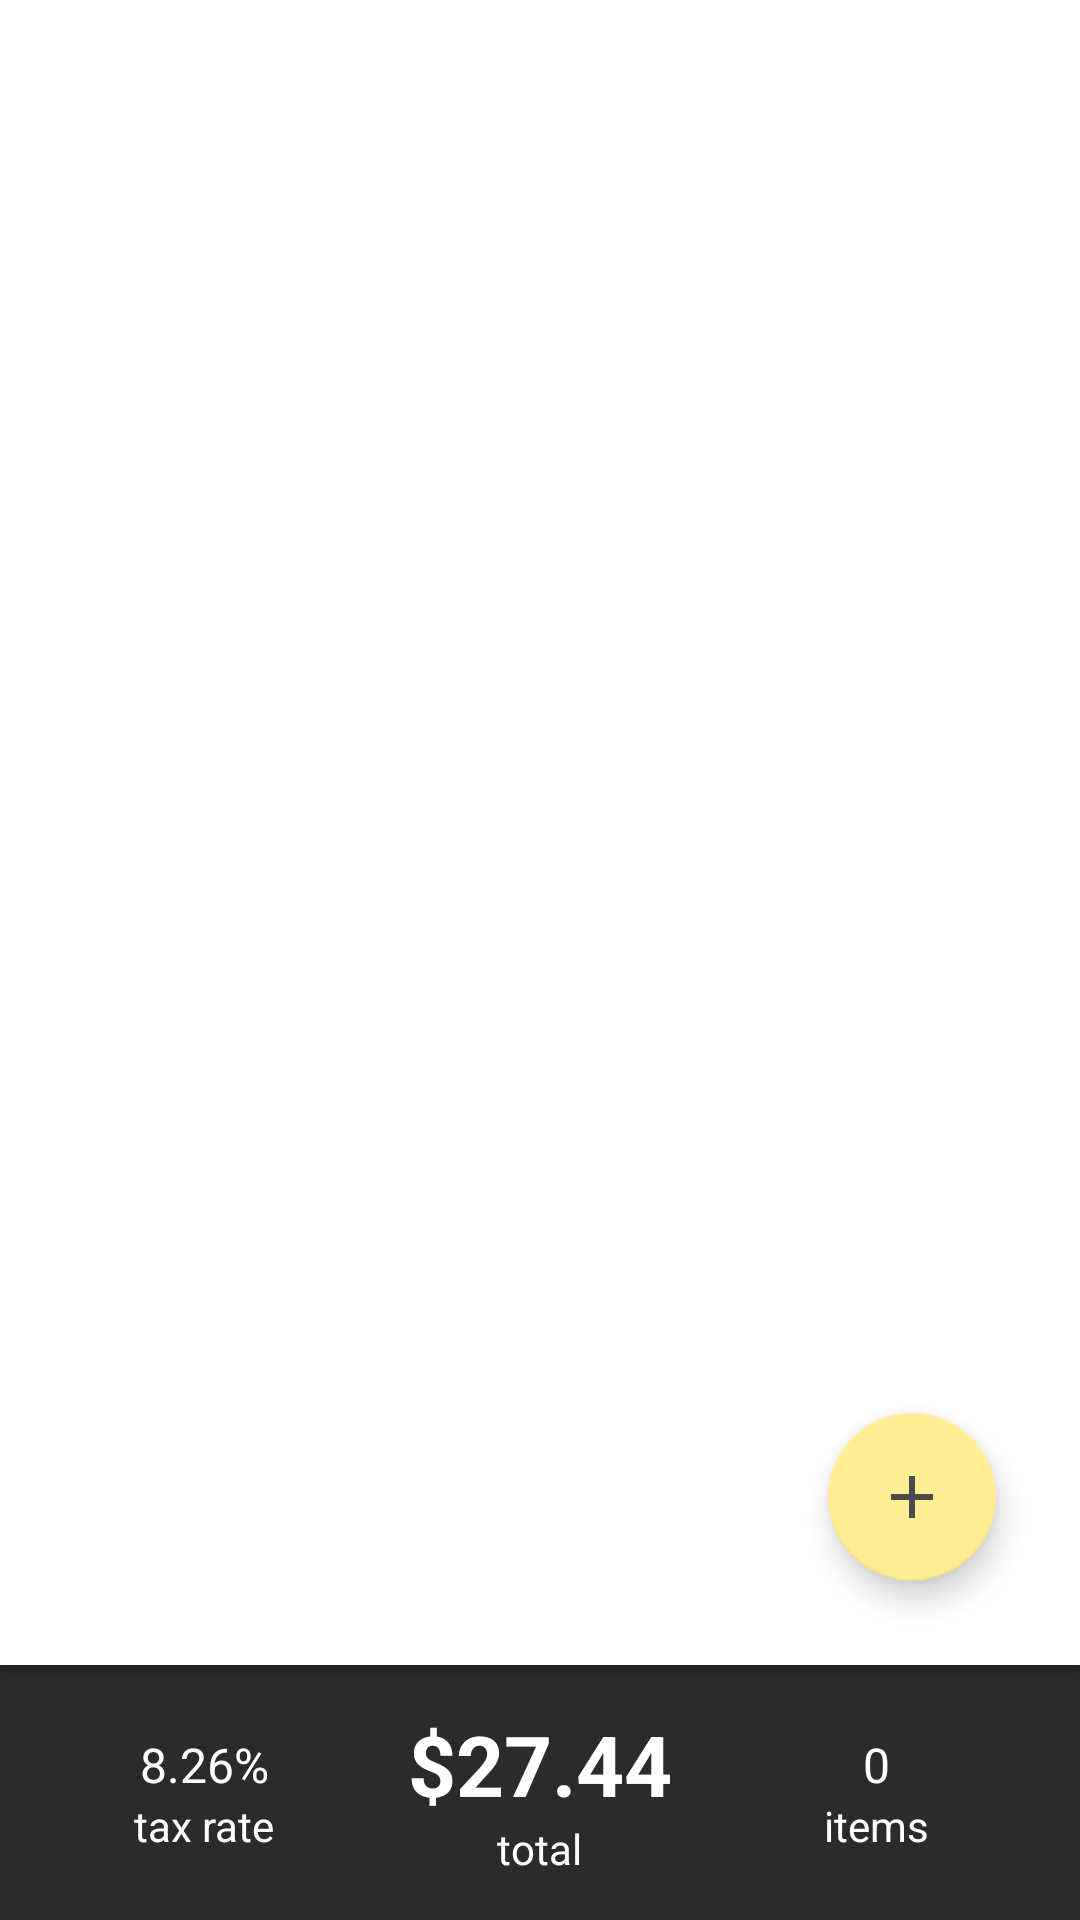

Icons on this 1080px×1920px Android screen, each with its box as (x1, y1, x2, y2):
add: (828, 1413, 996, 1581)
